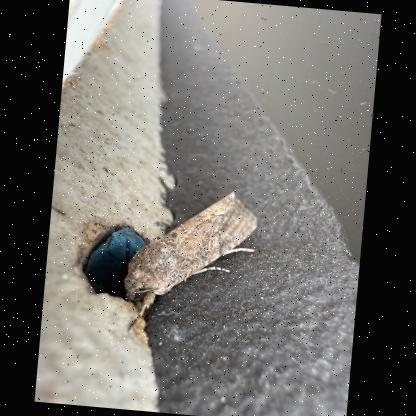Fall Armyworm Moth: (116, 178, 265, 345)
